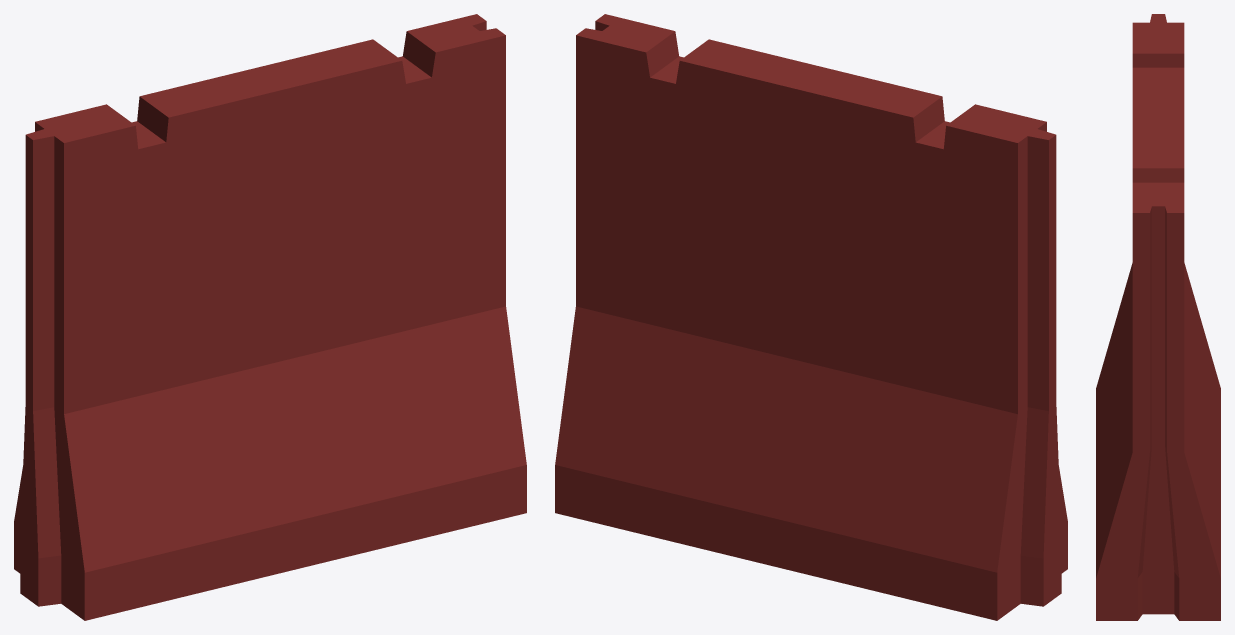
The model's file is SM_Barricades_12.glb.
The picture shows the model from 3 angles, left to right: view 1: azimuth 30°, elevation 25°; view 2: azimuth 150°, elevation 25°; view 3: azimuth 270°, elevation 25°; orthographic projection. The views are drawn at different scales.
Visible parts, largest first — view 1: SM_Barricades_12; view 2: SM_Barricades_12; view 3: SM_Barricades_12.
Part boxes in pixels (x1=…): SM_Barricades_12: x1=14, y1=14, x2=526, y2=620; SM_Barricades_12: x1=555, y1=14, x2=1067, y2=620; SM_Barricades_12: x1=1096, y1=14, x2=1220, y2=620.
Bounding box in the file's own units: 2.09 × 2 × 0.5539.
1 material, 1 textured.
